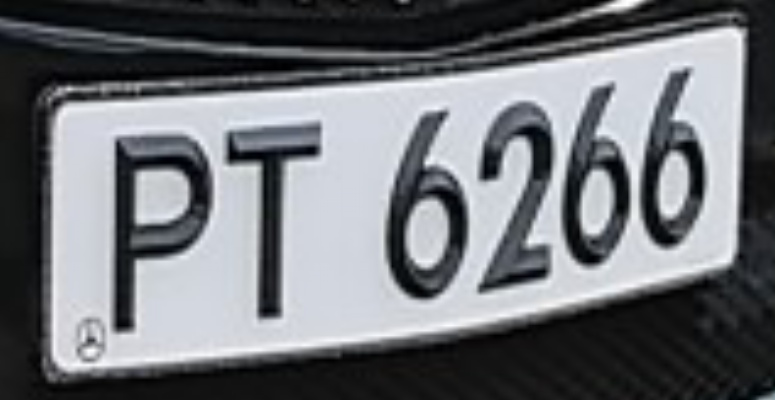2: (471, 76, 566, 310)
6: (377, 100, 485, 321), (558, 61, 635, 285), (631, 46, 707, 264)
P: (88, 115, 219, 347)
T: (210, 108, 341, 335)
